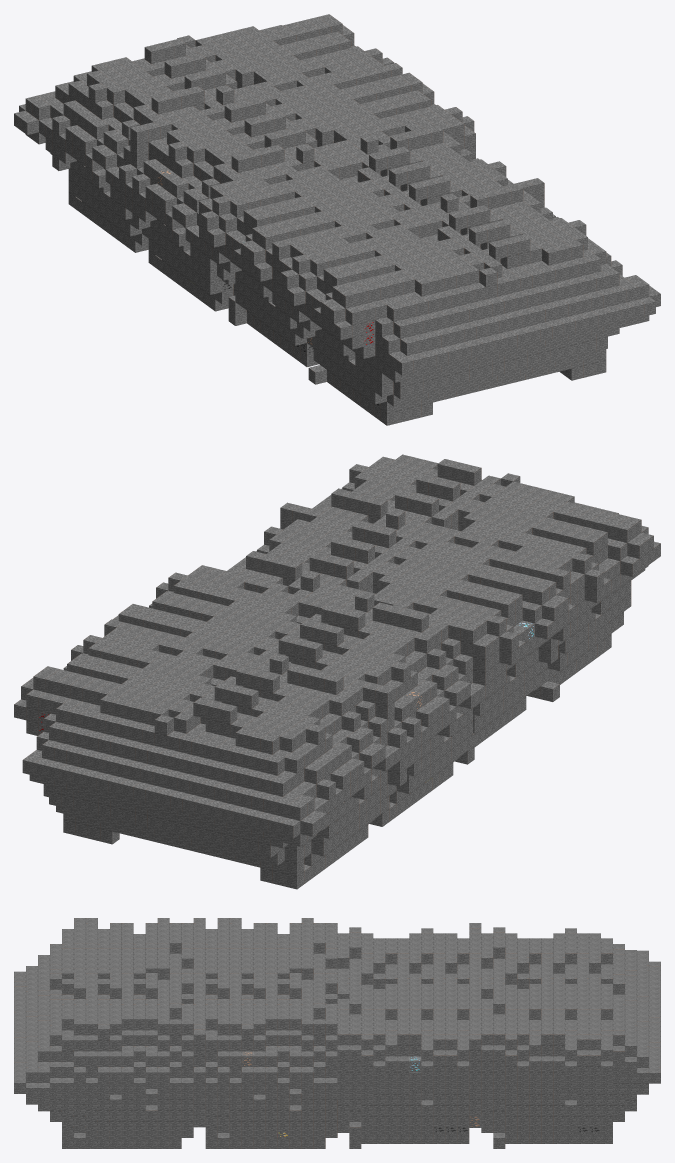
The model's file is Map2.fbx.
The picture shows the model from 3 angles, top to bottom: view 1: azimuth 30°, elevation 25°; view 2: azimuth 150°, elevation 25°; view 3: azimuth 270°, elevation 25°; orthographic projection. The views are drawn at different scales.
Visible parts, largest first — view 1: CaveSegment2, CaveSegment1, CaveEndpoints; view 2: CaveSegment1, CaveSegment2, CaveEndpoints; view 3: CaveSegment2, CaveSegment1, CaveEndpoints.
Part boxes in pixels (left/top/right/bottom): CaveSegment2: left=199, top=125, right=622, bottom=425; CaveSegment1: left=45, top=14, right=475, bottom=325; CaveEndpoints: left=14, top=25, right=660, bottom=406; CaveSegment1: left=14, top=565, right=485, bottom=889; CaveSegment2: left=227, top=454, right=660, bottom=761; CaveEndpoints: left=22, top=502, right=645, bottom=865; CaveSegment2: left=50, top=918, right=361, bottom=1148; CaveSegment1: left=337, top=923, right=624, bottom=1148; CaveEndpoints: left=14, top=944, right=660, bottom=1121.
Bounding box in the file's own units: 2600 × 1200 × 5400.
Materials: 1 (1 with a texture image).
